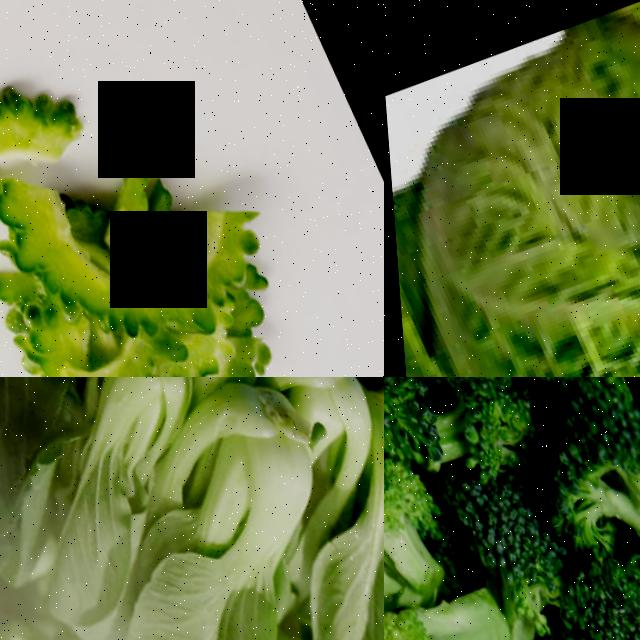bitter gourd: (0, 139, 326, 377)
bok choy: (10, 409, 355, 640), (0, 377, 205, 494)
broccoli: (384, 557, 549, 640), (384, 434, 459, 609)
cabbage: (384, 0, 640, 377)
